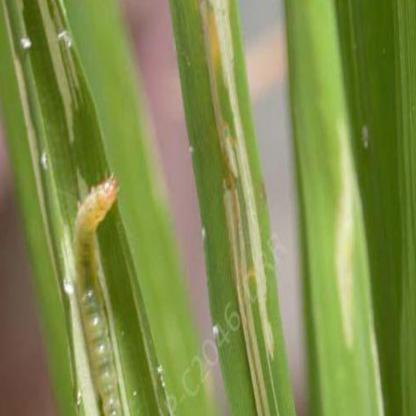leaf-folder: (54, 170, 134, 416)
